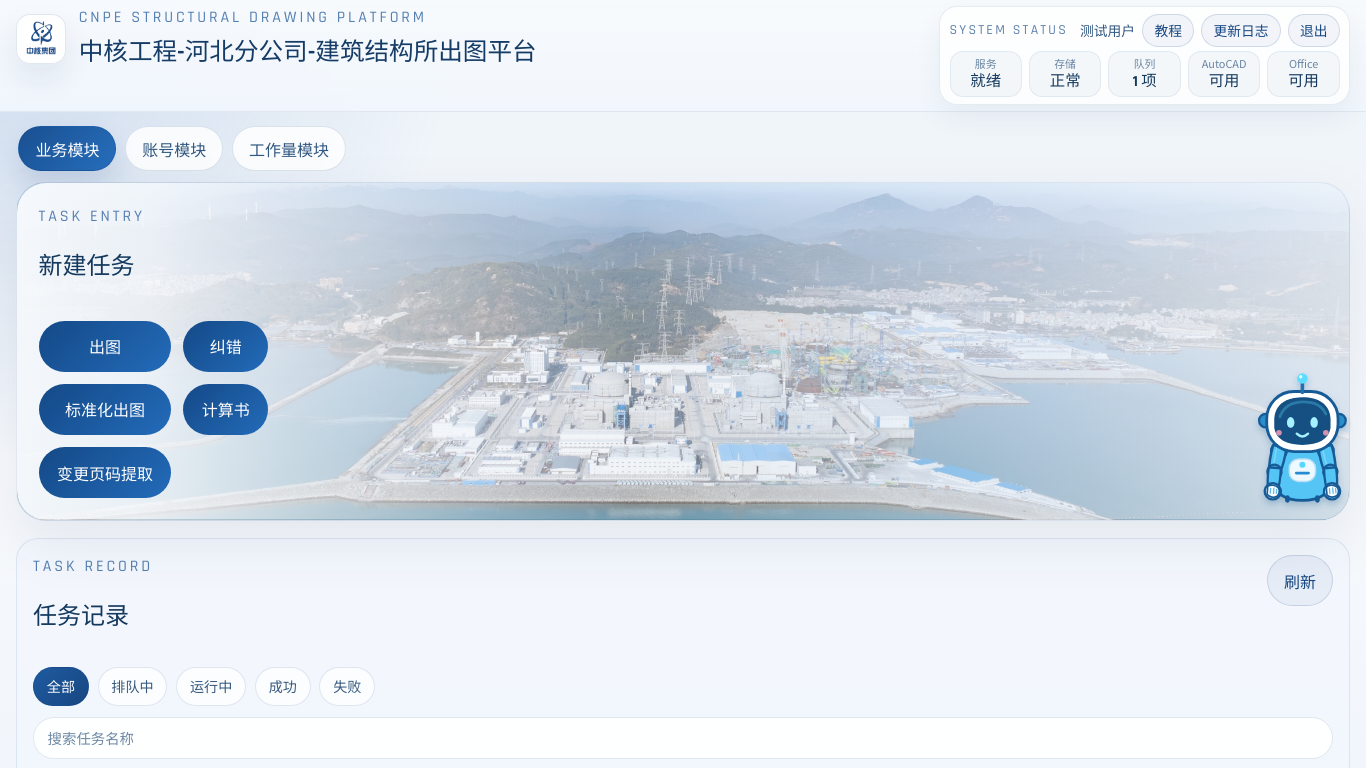
Test: homepage shell › opens the floating AI drawer and sends a message with conversation memory
Click the button named "打开 AI 助手" at (1302, 437), box [1248, 369, 1356, 505]
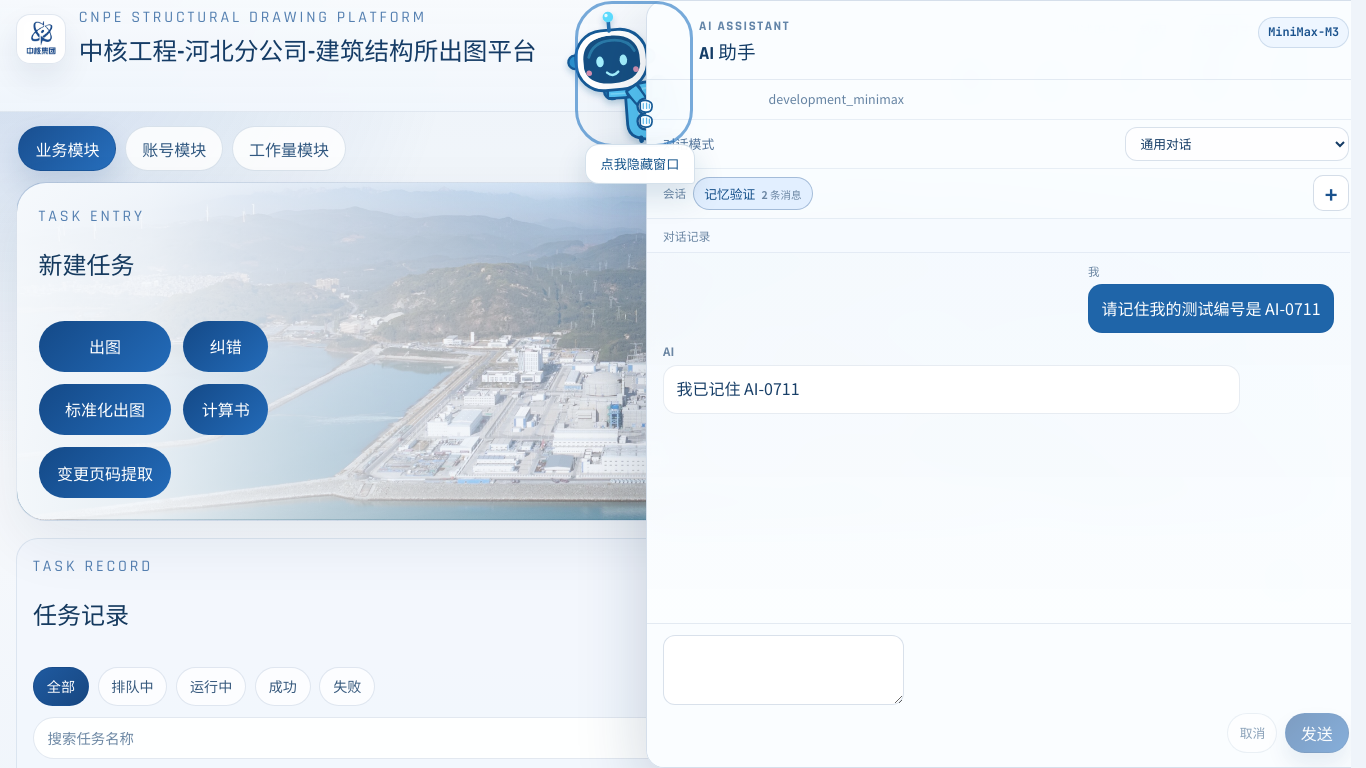
Now the text "MiniMax-M3" is shown, box [1258, 17, 1349, 48]
Now the text "development_minimax" is shown, box [769, 90, 904, 109]
Now the text "记忆验证" is shown once, box [704, 184, 755, 203]
Type "我刚才的测试编号是什么？" into the text box named "输入 AI 对话内容" at (784, 670), box [663, 635, 904, 705]
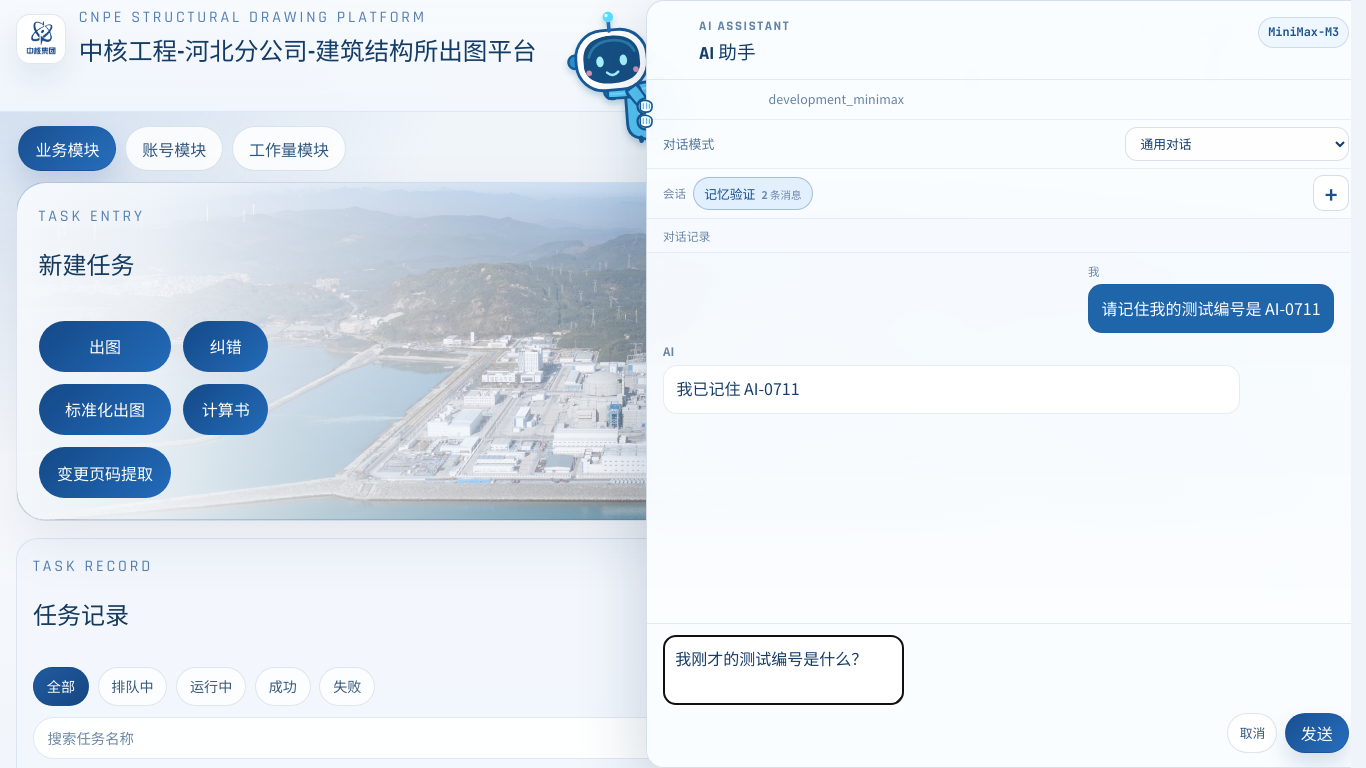
Click the button "发送" at (1317, 733), box [1285, 713, 1349, 753]
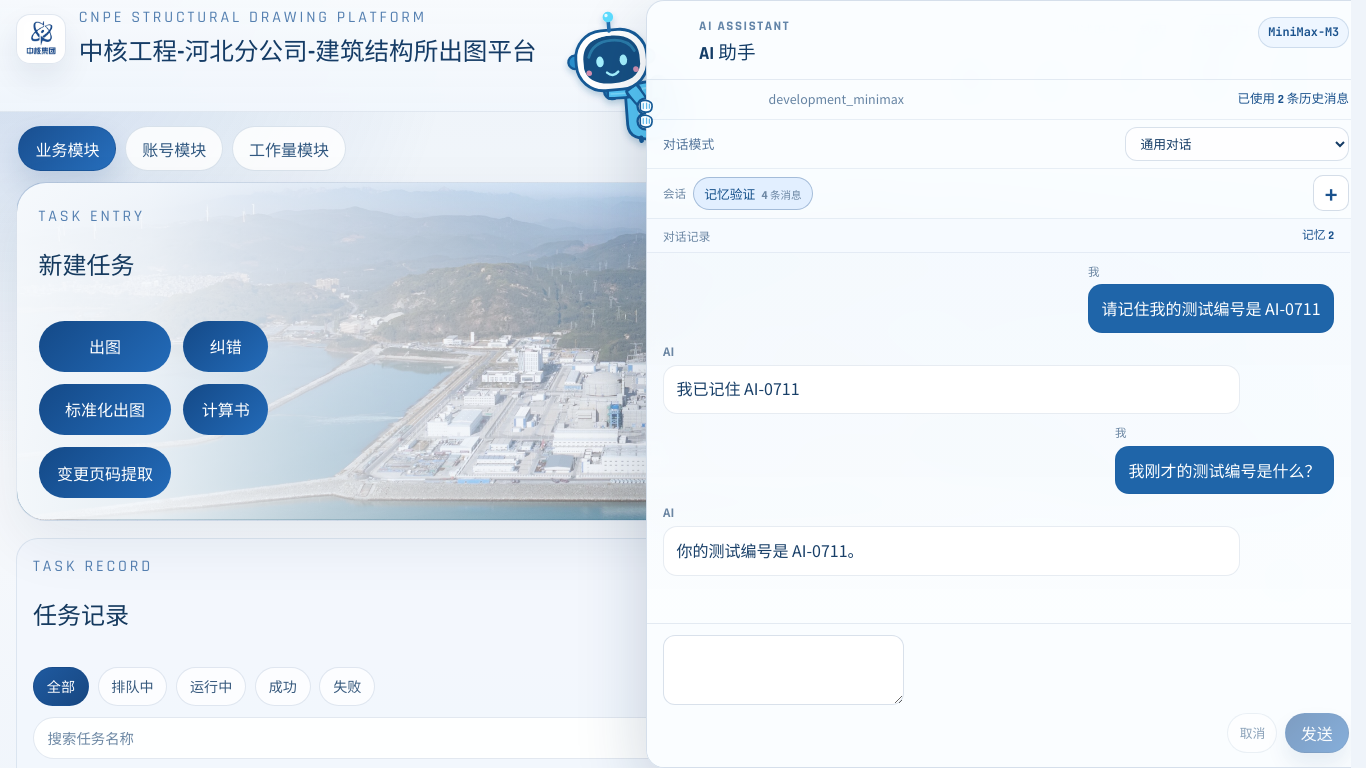
Now the text "你的测试编号是 AI-0711。" is shown, box [676, 538, 864, 562]
Now the text "已使用 2 条历史消息" is shown, box [1238, 90, 1349, 109]
Click the button named "隐藏或调整 AI 助手窗口" at (635, 74), box [580, 6, 689, 142]
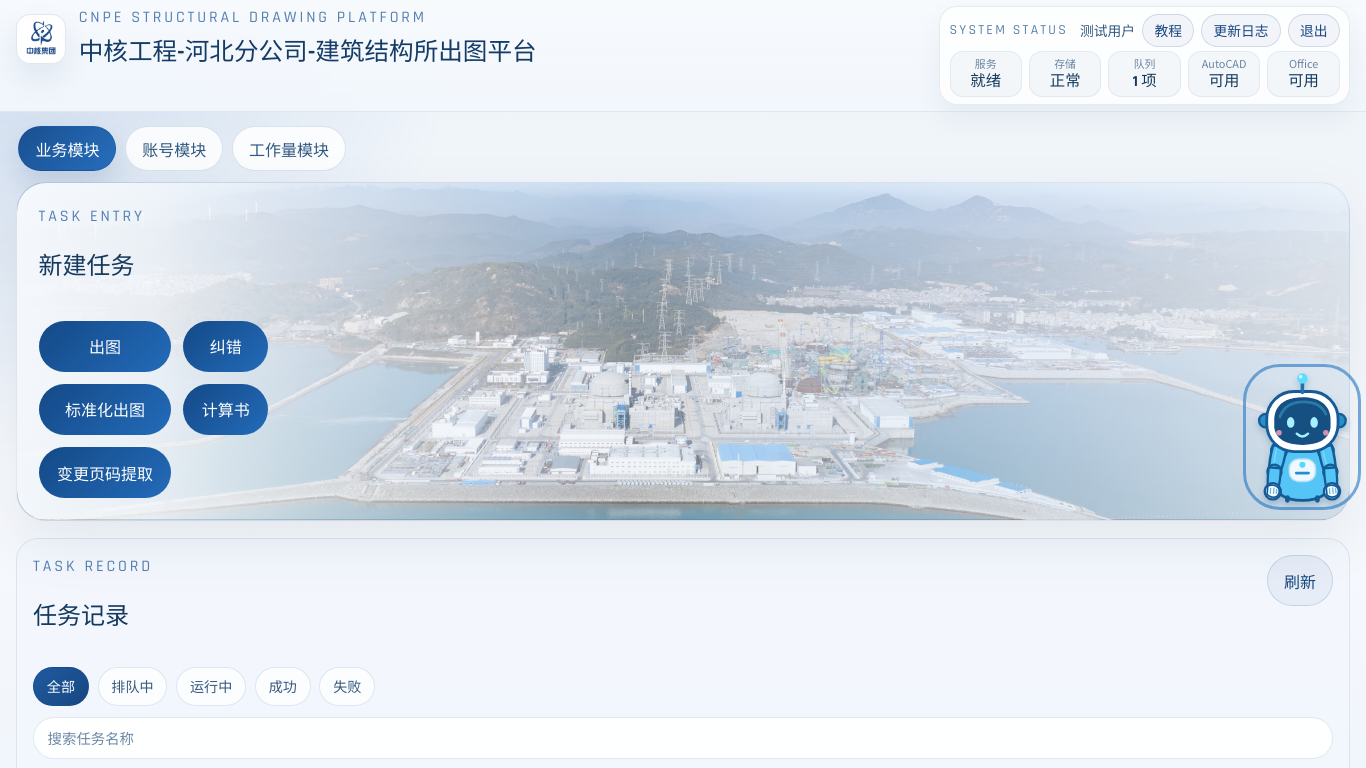
Now the button named "打开 AI 助手" is shown, box [1248, 369, 1356, 505]
